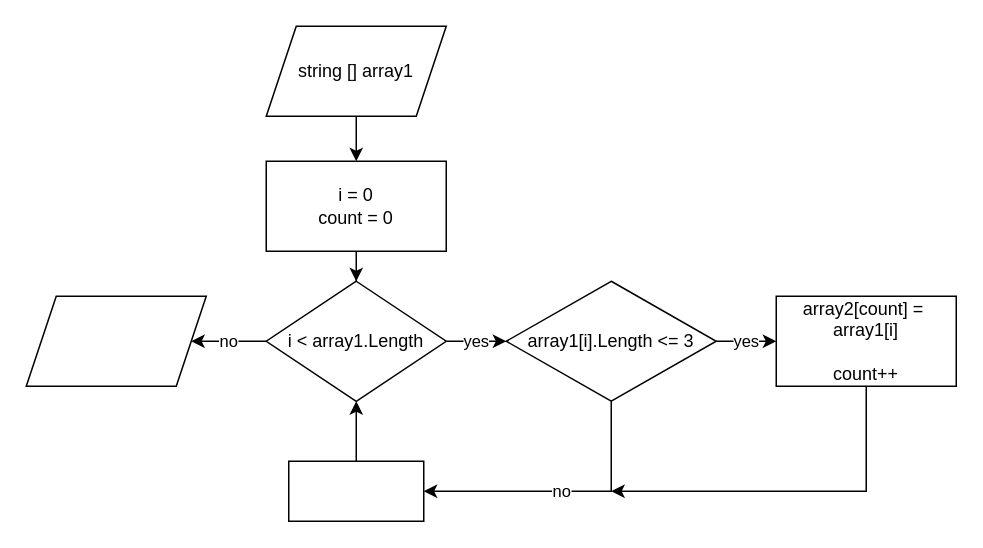
The diagram is 983 pixels wide and 548 high, and some of its shapes have lost their labels. The centre of each missing label's shape, as x and y in pixels:
"i++" goes at pixel 355 490.
"print array2" goes at pixel 115 340.
